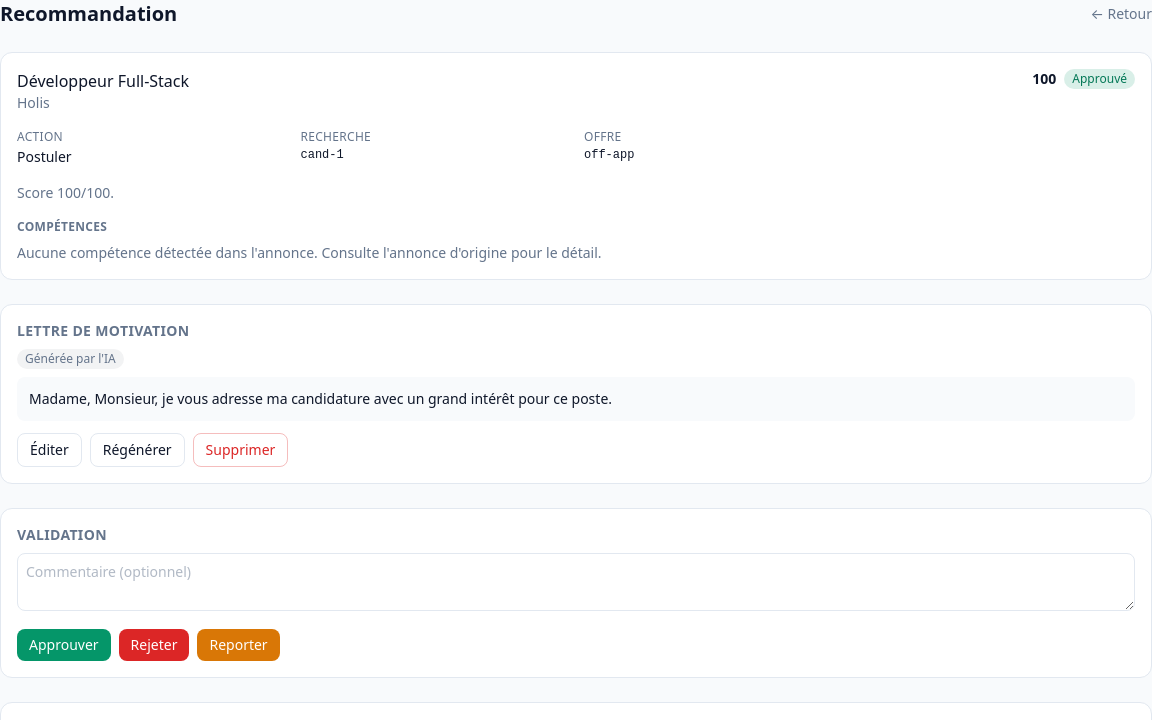
Test: LetterPanel (OPP-147) › supprimer (après confirmation) repasse à l'état « aucune lettre »
The width and height of the screenshot is (1152, 720).
Click the button "Supprimer": (240, 450) [193, 433, 288, 467]
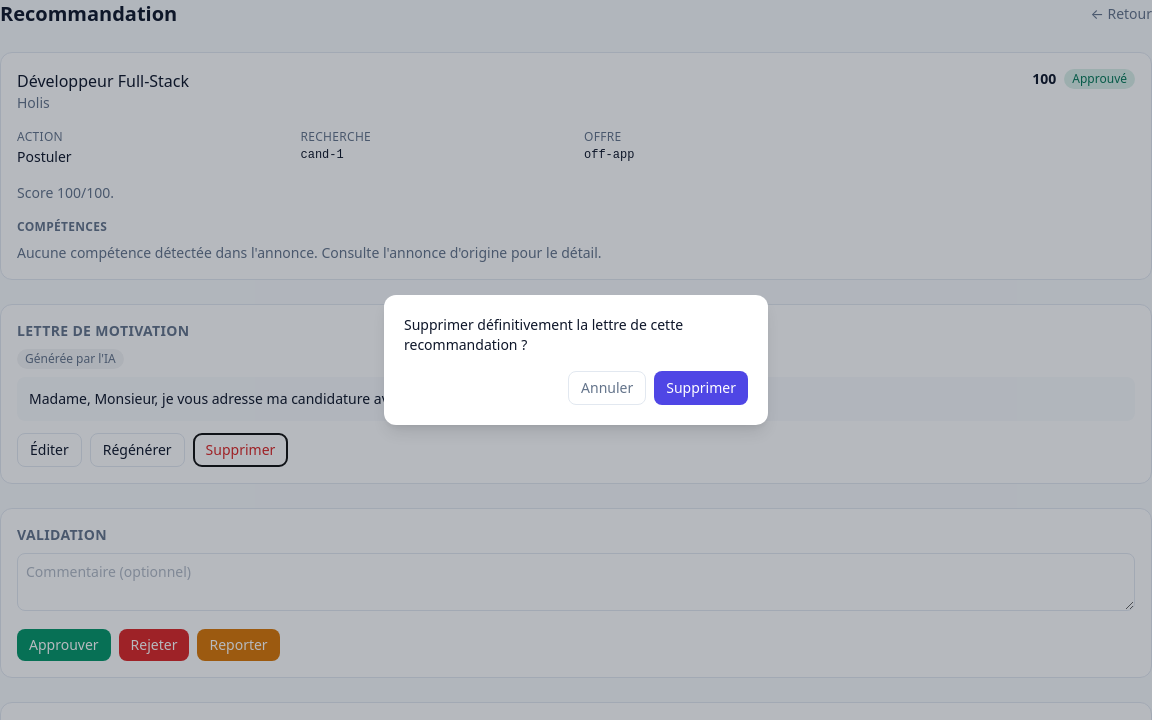
Click the button "Supprimer": (701, 388) [654, 371, 748, 405]
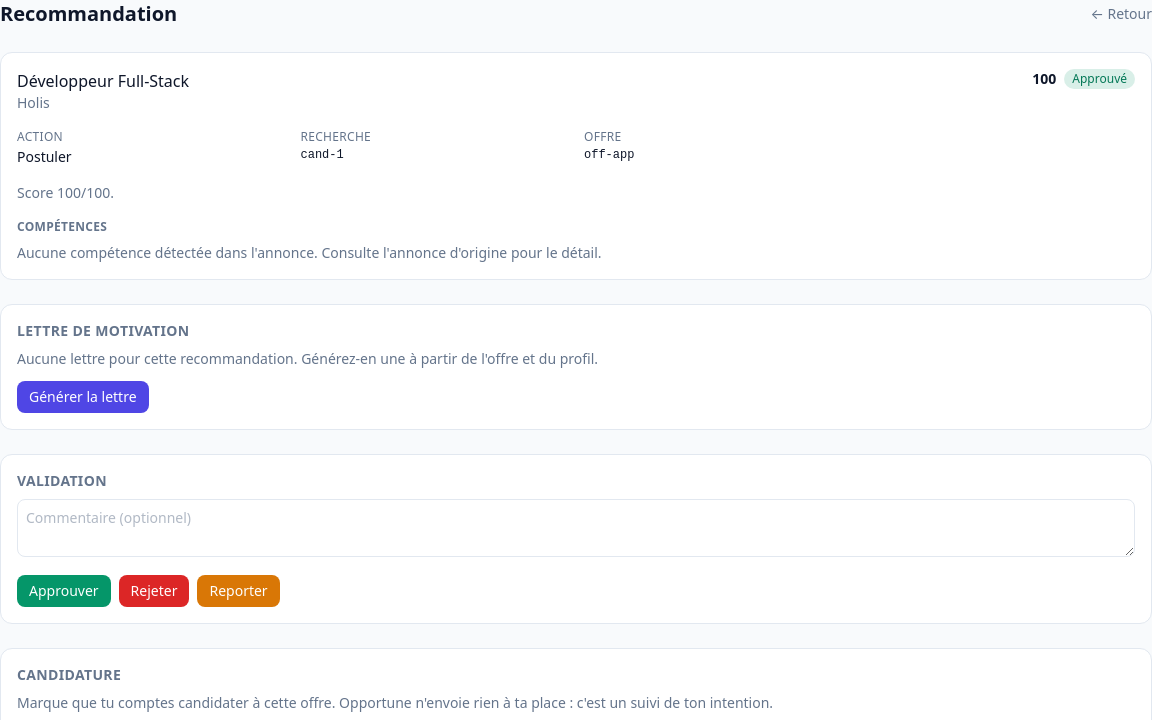
Check: the button "Générer la lettre" is shown, box [17, 381, 149, 413]
Check: the text "adresse ma candidature" is gone
Check: the button "Éditer" is gone
